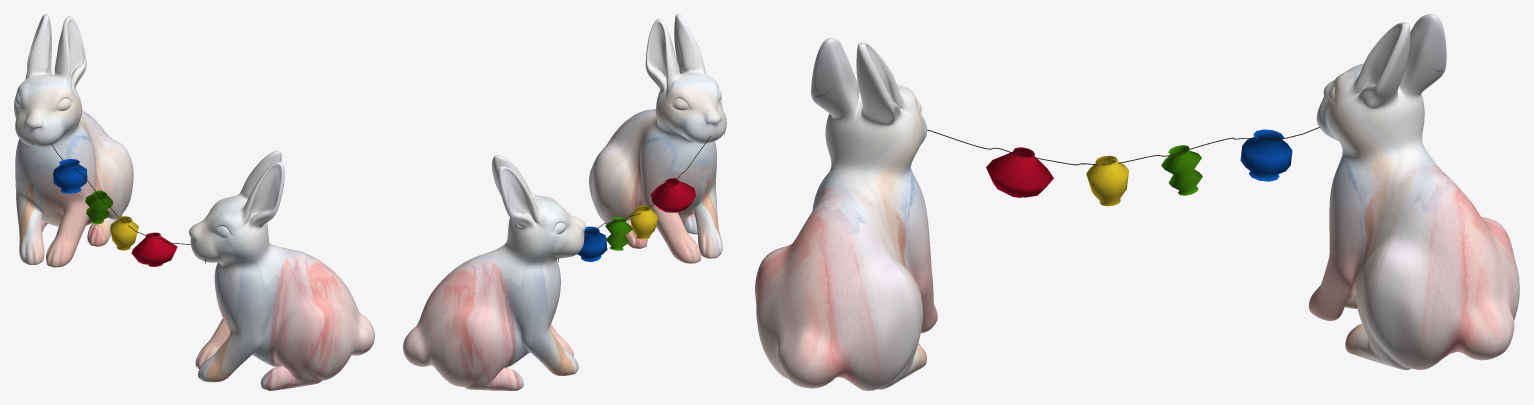
Rendered from new bunny and laterns.FBX.
3 views of the same model, side by side, from view 1: azimuth 30°, elevation 25°; view 2: azimuth 150°, elevation 25°; view 3: azimuth 270°, elevation 25° (orthographic). The views are drawn at different scales.
Visible parts, largest first — view 1: Sphere004; view 2: Sphere004; view 3: Sphere004.
Part boxes in pixels (bbox=[...]): Sphere004: bbox=[14, 14, 374, 390]; Sphere004: bbox=[403, 14, 726, 390]; Sphere004: bbox=[755, 14, 1519, 390].
Bounding box in the file's own units: 181 × 233 × 491.
Materials: 6 (1 with a texture image).
